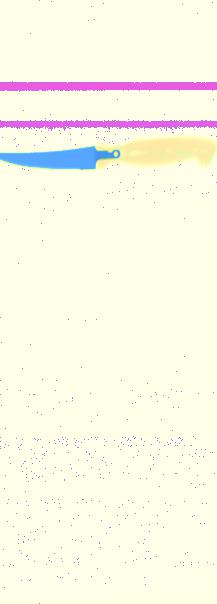Knife: (1, 134, 216, 171)
